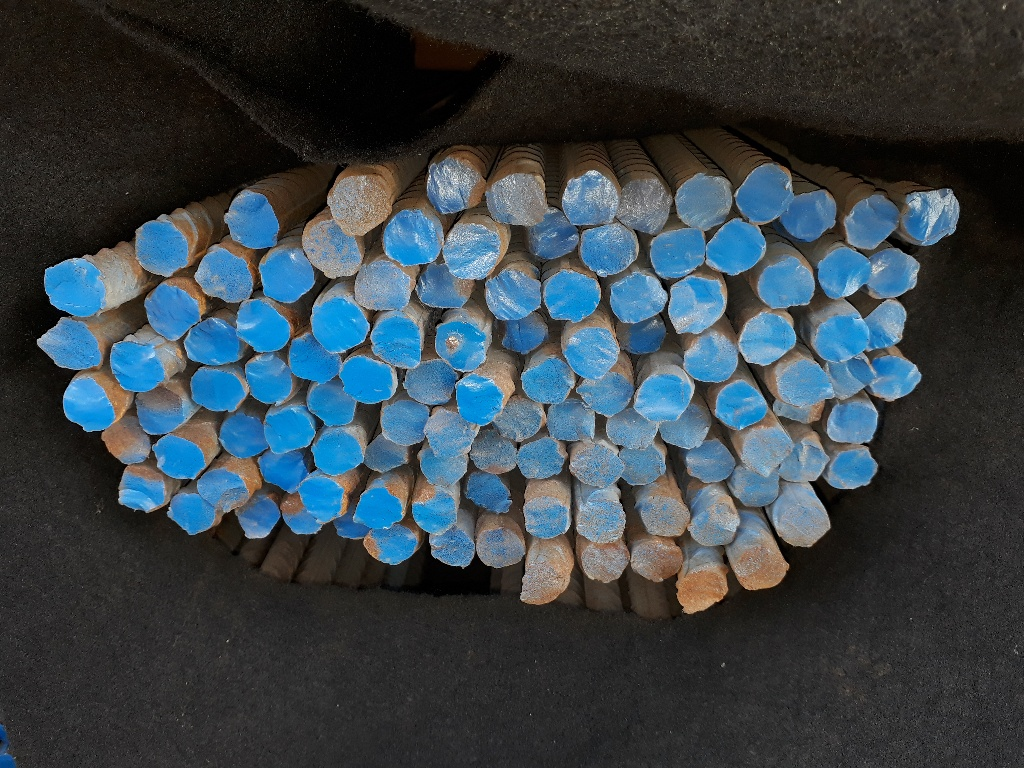dipstick: (326, 178, 390, 238), (34, 316, 102, 370), (43, 257, 103, 318), (705, 218, 766, 278), (303, 219, 362, 281), (442, 218, 502, 278), (664, 275, 725, 334), (735, 161, 792, 223), (608, 270, 672, 324), (310, 297, 370, 354), (903, 186, 959, 247), (192, 250, 255, 304), (381, 209, 440, 266), (676, 173, 733, 231), (484, 170, 544, 225), (224, 189, 276, 252), (425, 159, 483, 215), (134, 220, 188, 280), (563, 169, 618, 227), (236, 299, 292, 355), (844, 195, 899, 252), (144, 285, 201, 340), (614, 178, 670, 233), (739, 313, 798, 365), (259, 249, 314, 304), (62, 376, 116, 432), (544, 270, 600, 323), (290, 331, 342, 388), (817, 247, 873, 299), (563, 327, 619, 379), (486, 267, 543, 318), (681, 332, 738, 383), (776, 358, 834, 408), (339, 356, 398, 405), (436, 316, 487, 372), (110, 341, 166, 392), (581, 224, 638, 274), (369, 316, 421, 370), (651, 227, 706, 278), (422, 410, 478, 460), (491, 392, 548, 441), (184, 316, 242, 364), (635, 373, 693, 421), (189, 368, 249, 414), (525, 208, 578, 260), (783, 191, 836, 242), (868, 249, 921, 300), (414, 263, 474, 308), (244, 353, 293, 408), (521, 356, 577, 404), (149, 435, 207, 481), (761, 257, 814, 307), (455, 373, 505, 426), (355, 264, 410, 311), (743, 427, 793, 478), (815, 315, 868, 363), (714, 382, 768, 429), (577, 373, 634, 417), (134, 383, 184, 433), (869, 352, 921, 400), (402, 360, 455, 407), (351, 485, 406, 530), (380, 396, 429, 446), (425, 408, 474, 458), (661, 403, 712, 451), (737, 544, 789, 591), (728, 463, 781, 509), (684, 437, 737, 483), (860, 298, 905, 352), (606, 405, 661, 449), (101, 415, 151, 463), (629, 538, 681, 584), (264, 407, 316, 453), (823, 354, 877, 398), (781, 502, 831, 549), (296, 476, 347, 522), (217, 411, 268, 457), (578, 540, 630, 585), (570, 447, 625, 489), (547, 397, 596, 444), (411, 485, 458, 534), (117, 466, 167, 512), (575, 500, 627, 544), (677, 567, 725, 614), (429, 522, 476, 570), (639, 492, 689, 537), (827, 448, 877, 492), (364, 527, 419, 567), (167, 491, 217, 535), (308, 383, 359, 426), (615, 313, 667, 355), (310, 431, 362, 473), (196, 470, 249, 511), (515, 437, 566, 479), (467, 430, 518, 472), (473, 526, 525, 567), (418, 445, 470, 485), (621, 441, 666, 487), (780, 441, 829, 483), (259, 450, 309, 491), (501, 312, 548, 355), (518, 561, 564, 604), (467, 470, 513, 513), (689, 510, 741, 548), (233, 497, 281, 538), (829, 404, 877, 444), (364, 431, 412, 471), (523, 499, 570, 539), (331, 503, 370, 541), (780, 404, 826, 428)
